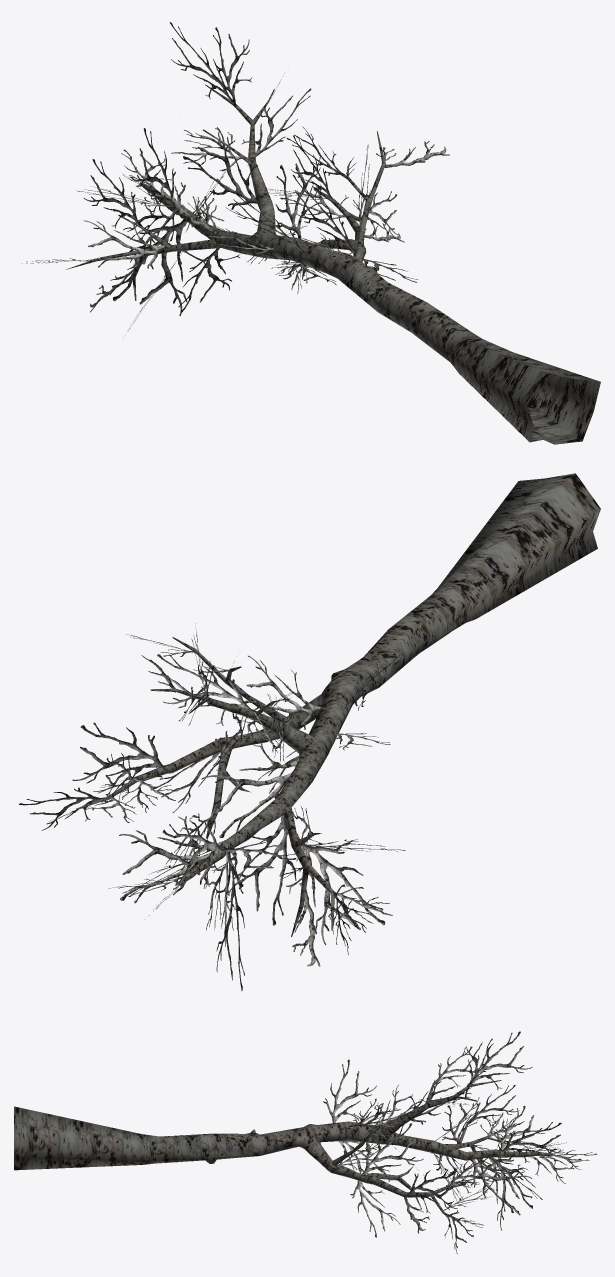
Rendered from WhiteBirch_A1.obj.
3 views of the same model, one above another, from view 1: azimuth 30°, elevation 25°; view 2: azimuth 150°, elevation 25°; view 3: azimuth 270°, elevation 25° (orthographic). The views are drawn at different scales.
Visible parts, largest first — view 1: a1__Mt_Treeleaf_00, pCylinder121__Mt_Tree_Trunk, polySurface1340__Mt_Tree_Stump; view 2: a1__Mt_Treeleaf_00, pCylinder121__Mt_Tree_Trunk, polySurface1340__Mt_Tree_Stump; view 3: a1__Mt_Treeleaf_00, pCylinder121__Mt_Tree_Trunk, polySurface1340__Mt_Tree_Stump.
Boxes of the visible parts, <box> form: a1__Mt_Treeleaf_00: <box>22,22,449,330</box>; pCylinder121__Mt_Tree_Trunk: <box>66,84,470,362</box>; polySurface1340__Mt_Tree_Stump: <box>448,331,600,444</box>; a1__Mt_Treeleaf_00: <box>19,623,405,990</box>; pCylinder121__Mt_Tree_Trunk: <box>76,594,457,936</box>; polySurface1340__Mt_Tree_Stump: <box>431,473,600,631</box>; a1__Mt_Treeleaf_00: <box>323,1031,597,1253</box>; pCylinder121__Mt_Tree_Trunk: <box>160,1071,552,1221</box>; polySurface1340__Mt_Tree_Stump: <box>14,1106,160,1170</box>.
Size of the model in its own units: 10.23 by 8.26 by 20.18.
Materials: 6 (5 with a texture image).
